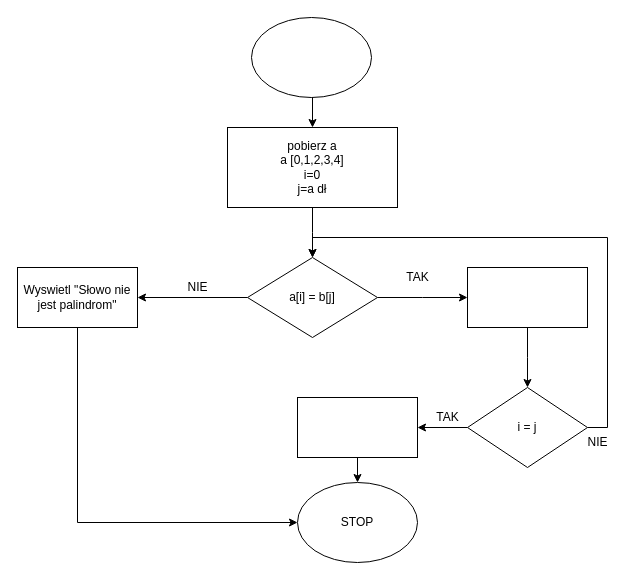
The diagram is 635 pixels wide and 580 high, and some of its shapes have lost their labels. Here are the shapes that lost their labels. From the top down, the box of each, then its label:
(250, 16, 372, 98): Start
(466, 266, 588, 328): i+1 j-1
(296, 396, 418, 458): Wyswietl "Slowo jest palindromem"
